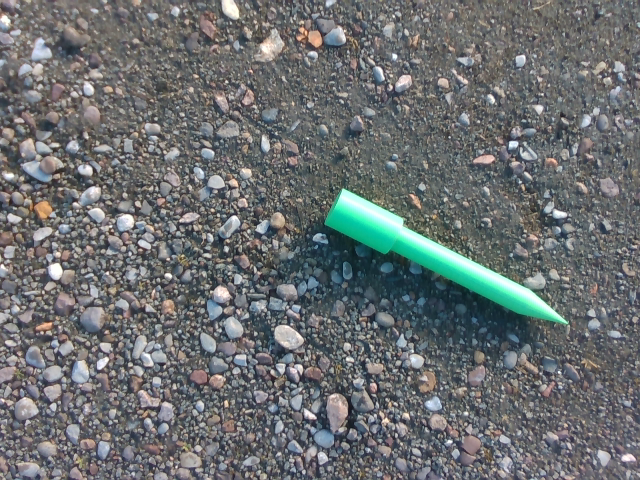Probe: (316, 176, 576, 335)
